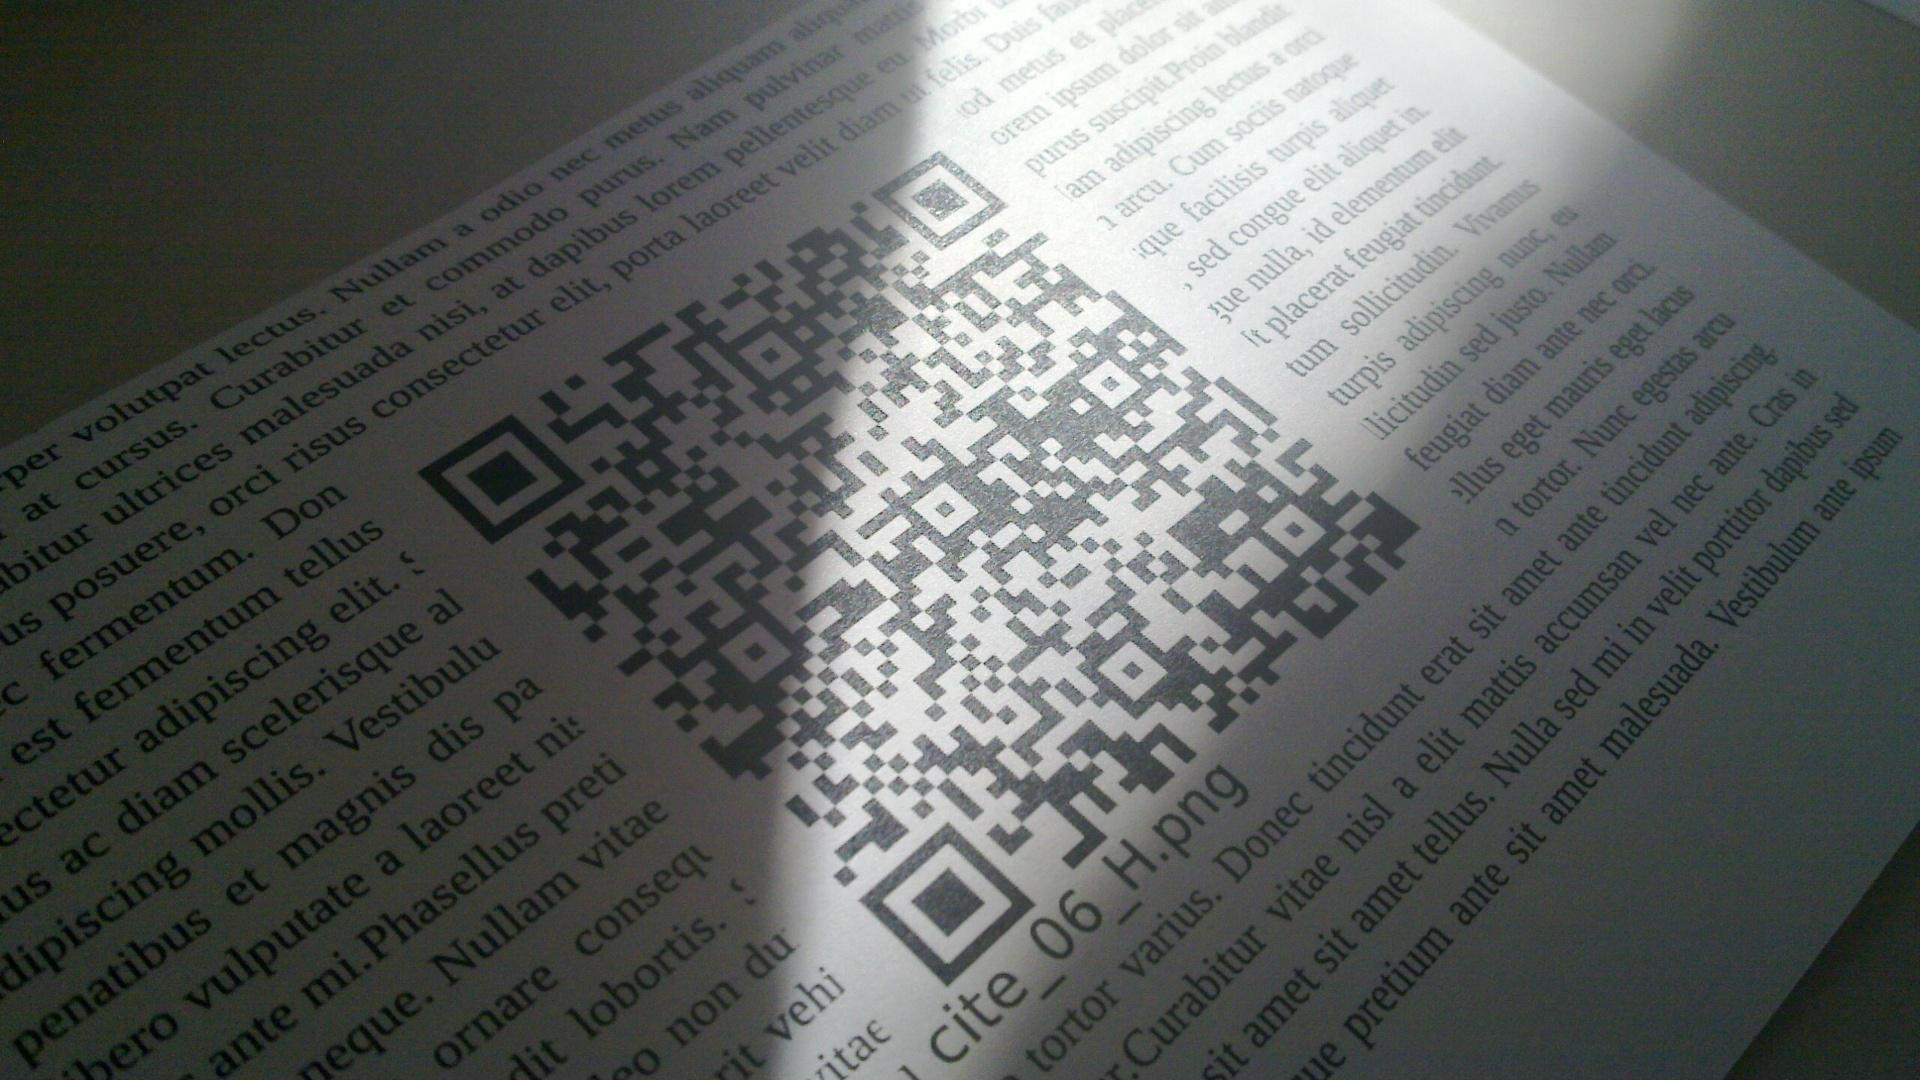qr_code: (413, 148, 1435, 988)
